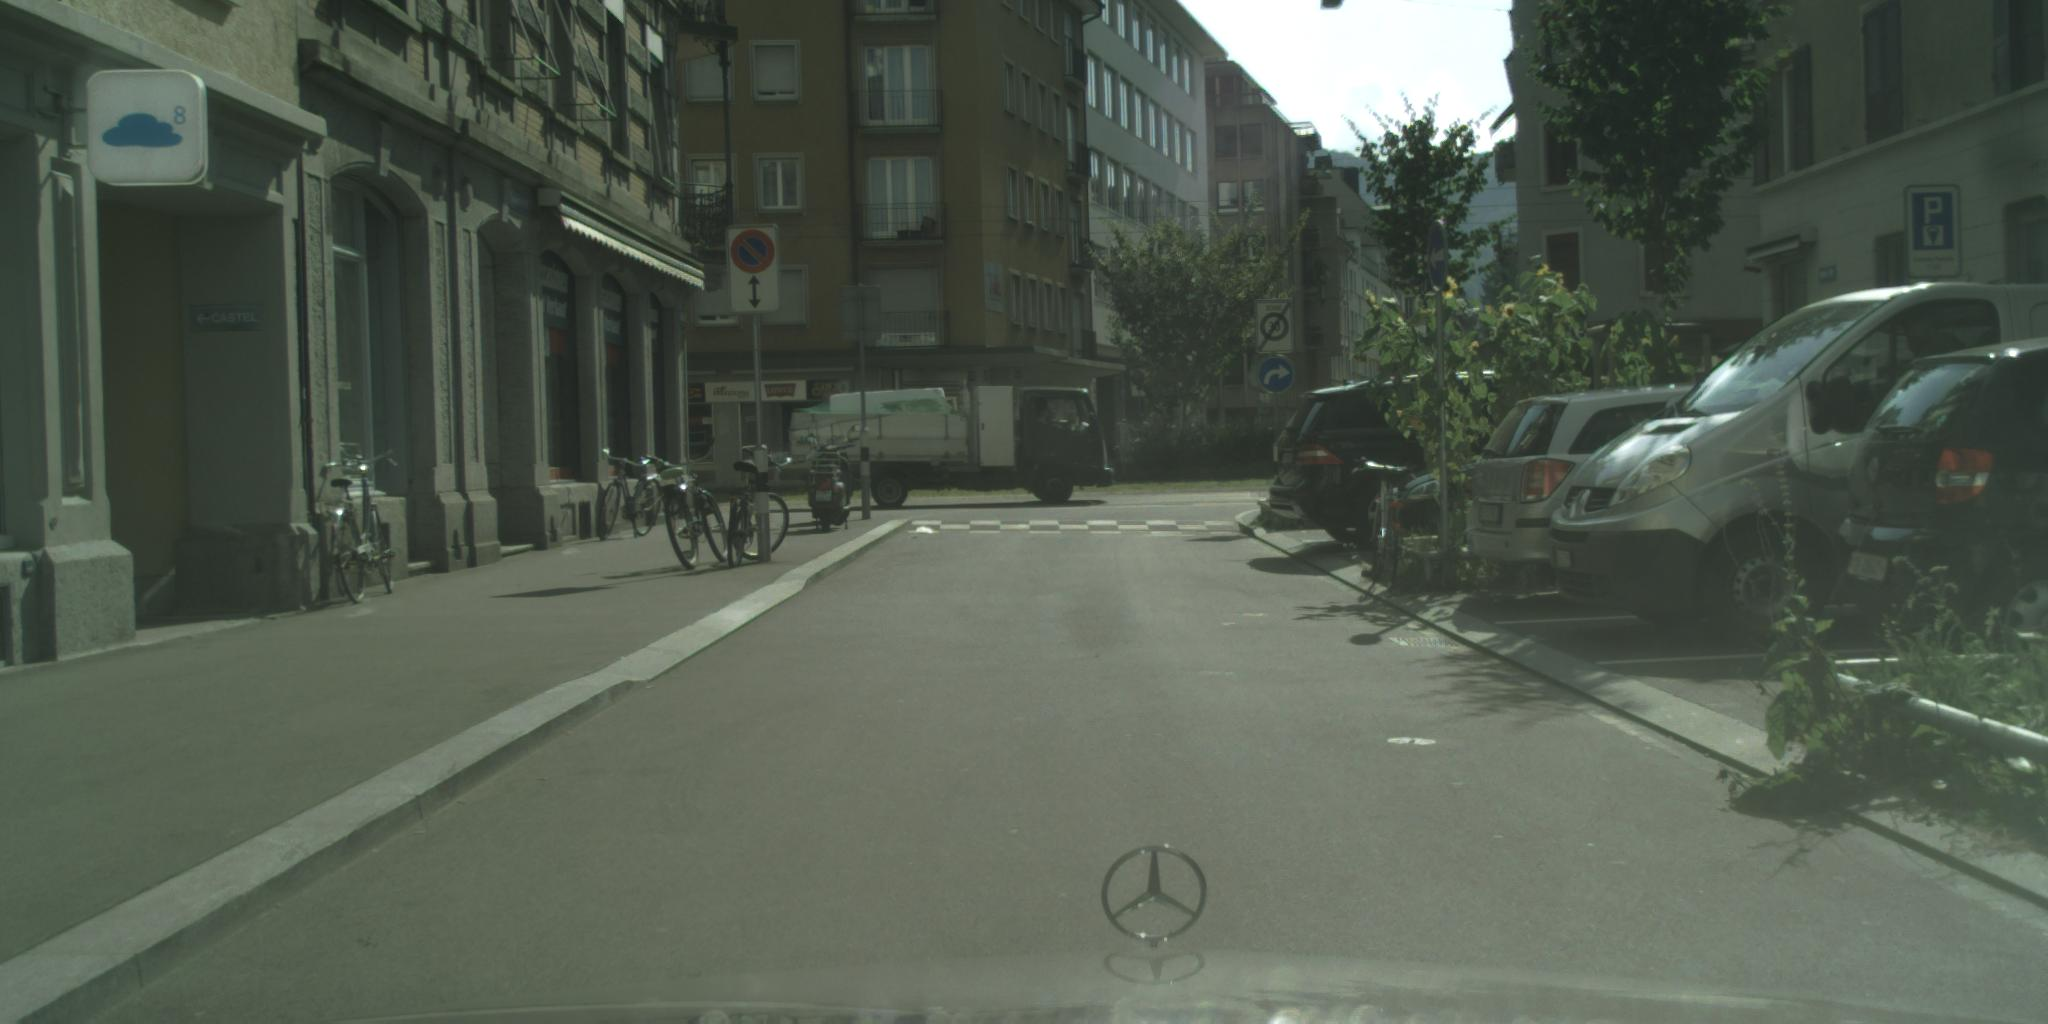bicycle: (313, 456, 398, 606), (658, 438, 731, 569), (1351, 457, 1417, 592), (728, 448, 794, 569), (596, 451, 664, 546)
car: (1552, 283, 2048, 649), (1835, 336, 2048, 647), (1467, 381, 1741, 579), (1270, 368, 1507, 545), (1368, 453, 1516, 538)
motorcycle: (799, 426, 869, 536)
truck: (778, 381, 1115, 509)
